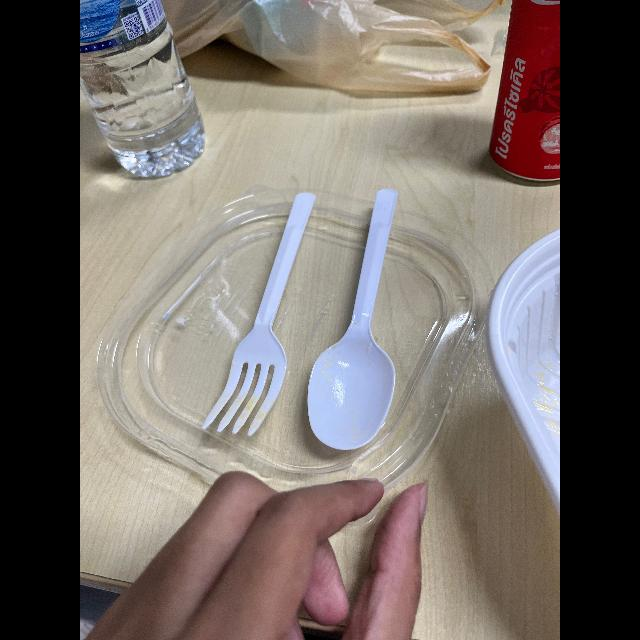plastic_cultery: (296, 186, 428, 452), (205, 192, 335, 446)
